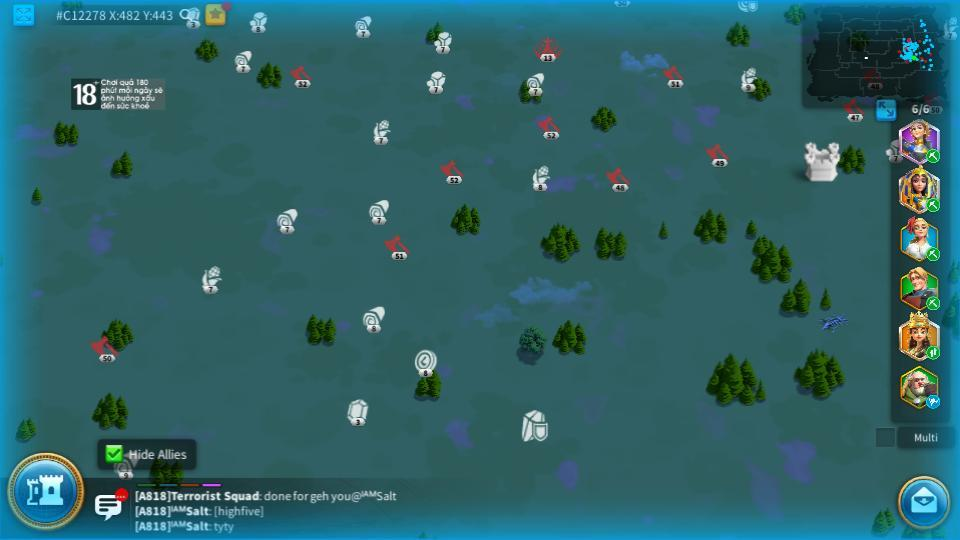gem-z-out: (346, 399, 369, 425)
march_farming: (923, 197, 940, 212), (924, 149, 939, 162), (924, 248, 939, 260), (926, 297, 941, 308)
march_idle: (925, 396, 942, 408)
march_marching: (925, 347, 941, 359)
